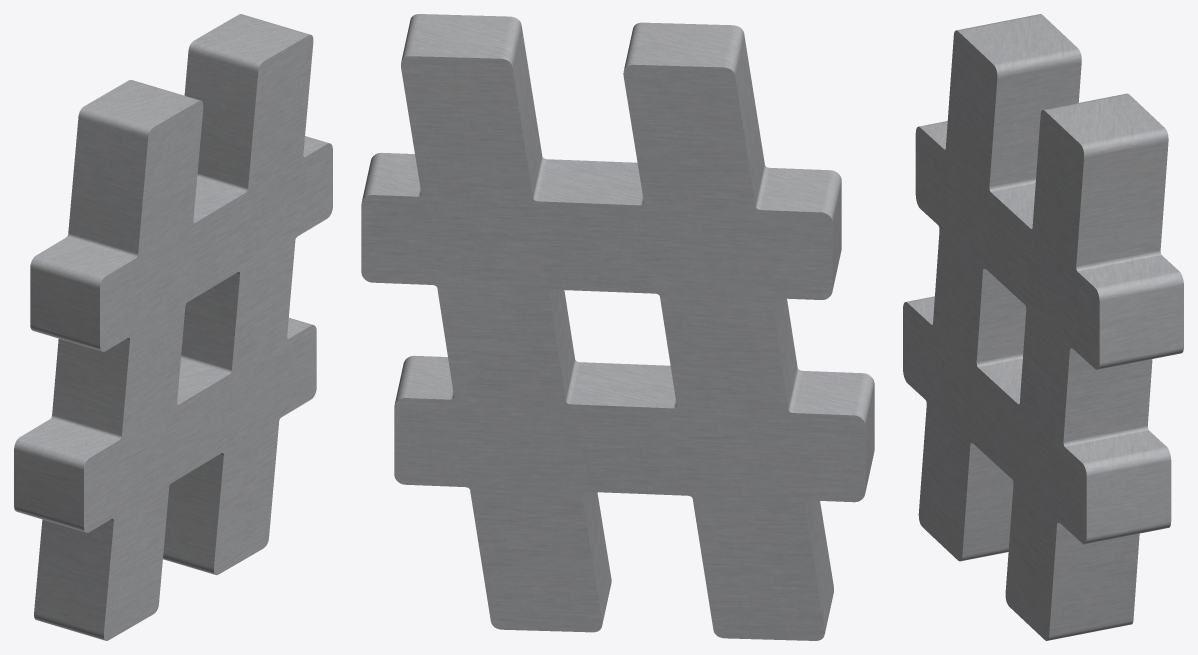
The model's file is grow.glb.
3 renders of one model, left to right at view 1: azimuth 30°, elevation 25°; view 2: azimuth 150°, elevation 25°; view 3: azimuth 270°, elevation 25°, orthographic. The views are drawn at different scales.
Visible parts, largest first — view 1: Text.002; view 2: Text.002; view 3: Text.002.
Boxes of the visible parts, x1=… form: Text.002: x1=14, y1=14, x2=332, y2=640; Text.002: x1=361, y1=14, x2=874, y2=640; Text.002: x1=903, y1=14, x2=1183, y2=640.
Bounding box in the file's own units: 0.4002 × 0.5027 × 0.2418.
1 material, 1 textured.
